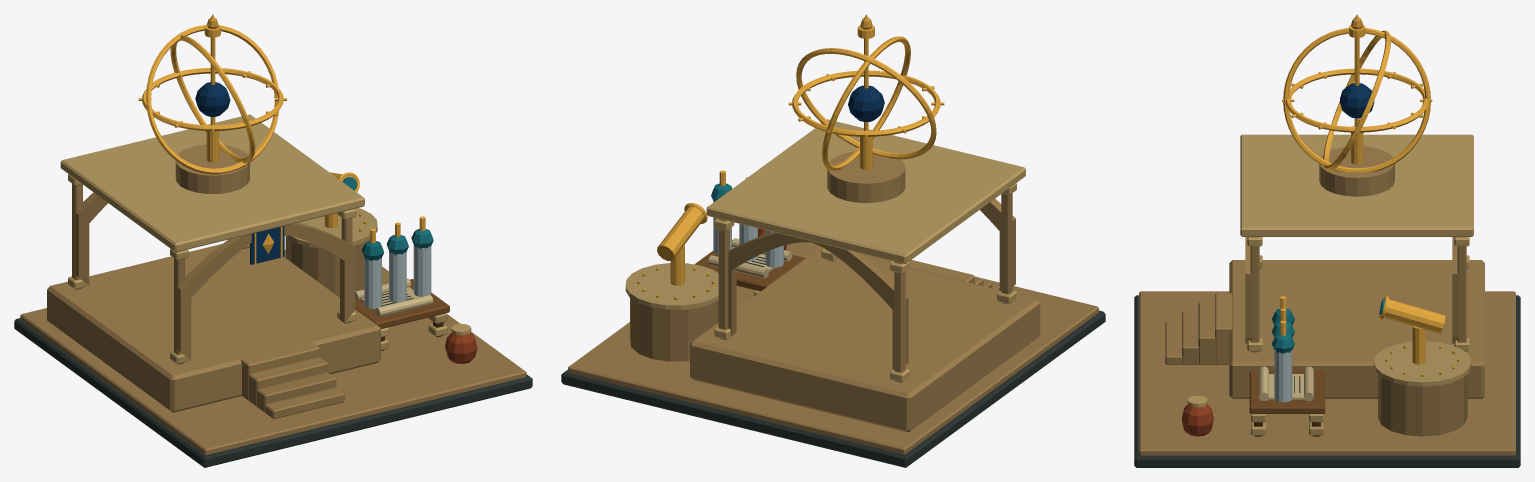
The picture shows the model from 3 angles, left to right: view 1: azimuth 30°, elevation 25°; view 2: azimuth 150°, elevation 25°; view 3: azimuth 270°, elevation 25°; orthographic projection. The views are drawn at different scales.
Visible parts, largest first — view 1: laboratory_level3_structure, laboratory_level3_metal; view 2: laboratory_level3_structure, laboratory_level3_metal; view 3: laboratory_level3_structure, laboratory_level3_metal.
Boxes of the visible parts, bbox=[...] form: laboratory_level3_structure: bbox=[14, 18, 532, 467]; laboratory_level3_metal: bbox=[138, 14, 425, 263]; laboratory_level3_structure: bbox=[561, 18, 1105, 467]; laboratory_level3_metal: bbox=[657, 14, 944, 285]; laboratory_level3_structure: bbox=[1134, 18, 1520, 467]; laboratory_level3_metal: bbox=[1280, 14, 1445, 364].
Bounding box in the file's own units: 5.6 × 5.61 × 5.6.
